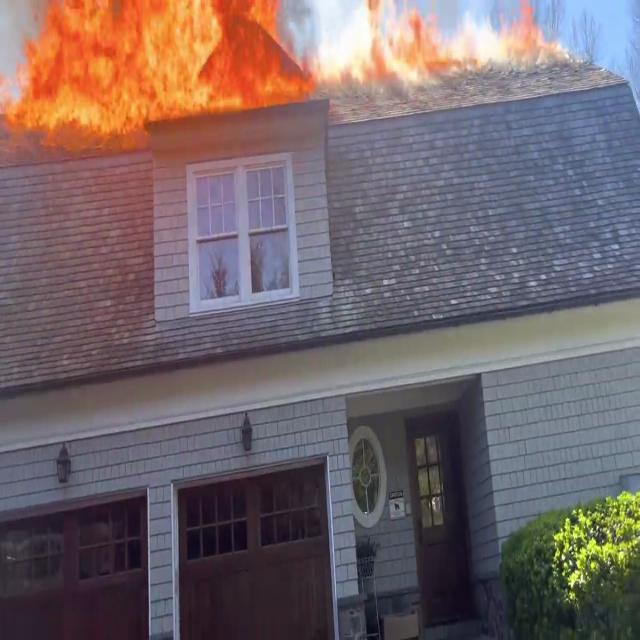Fire: (0, 0, 331, 131), (336, 10, 576, 75)
